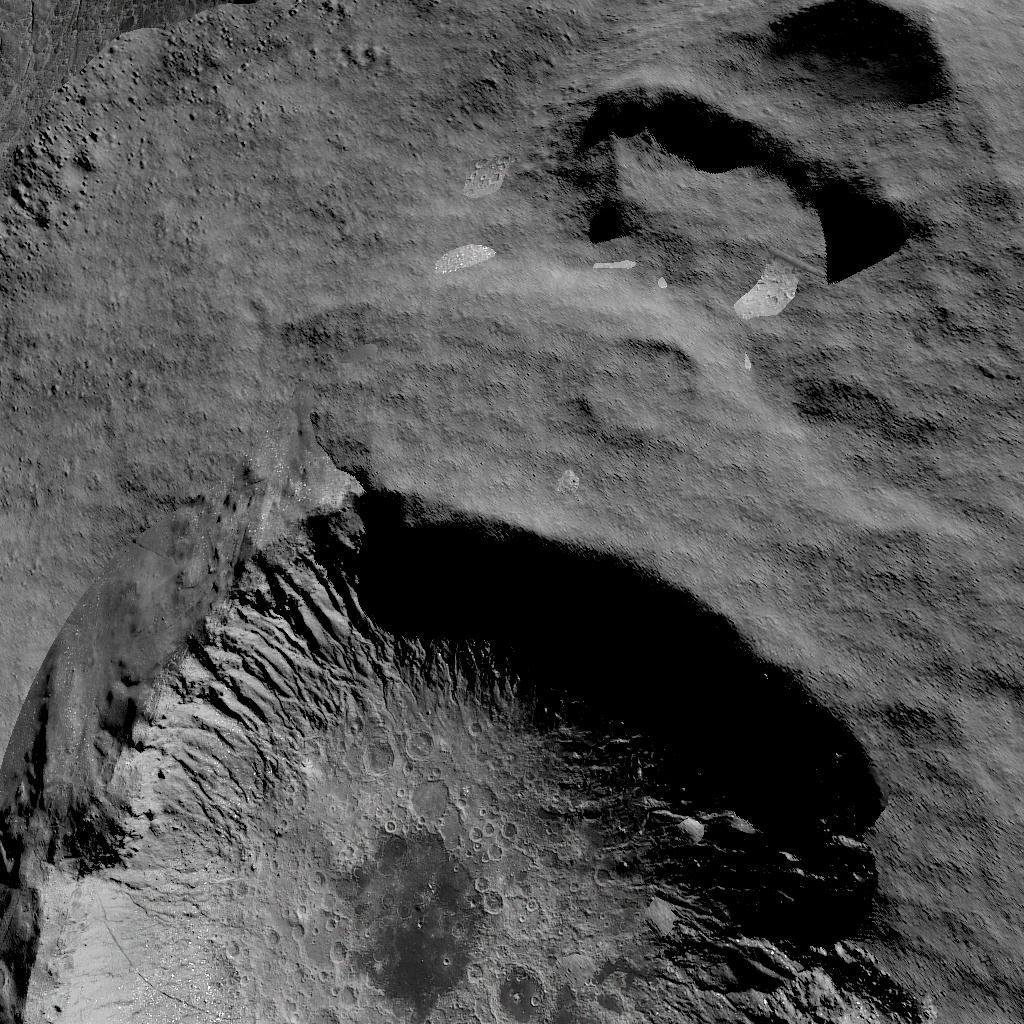Crater: (0, 458, 866, 1024), (576, 0, 968, 273), (563, 301, 698, 441)
Plan surface: (7, 0, 514, 442)
